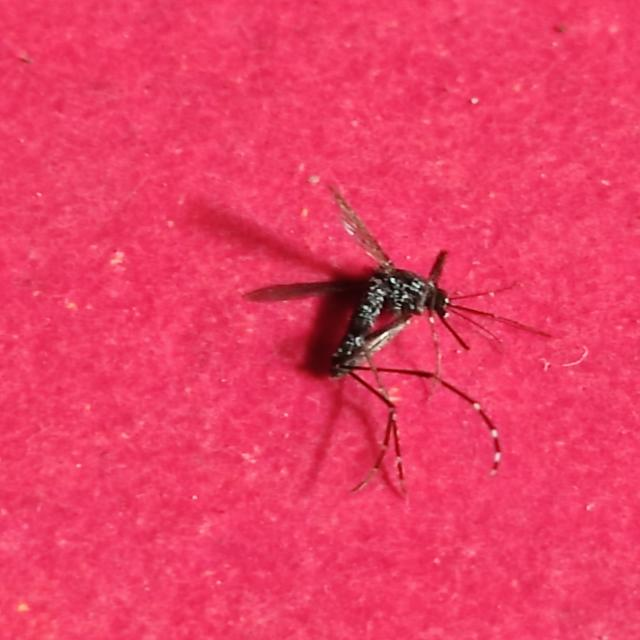albopictus: (243, 160, 555, 506)
